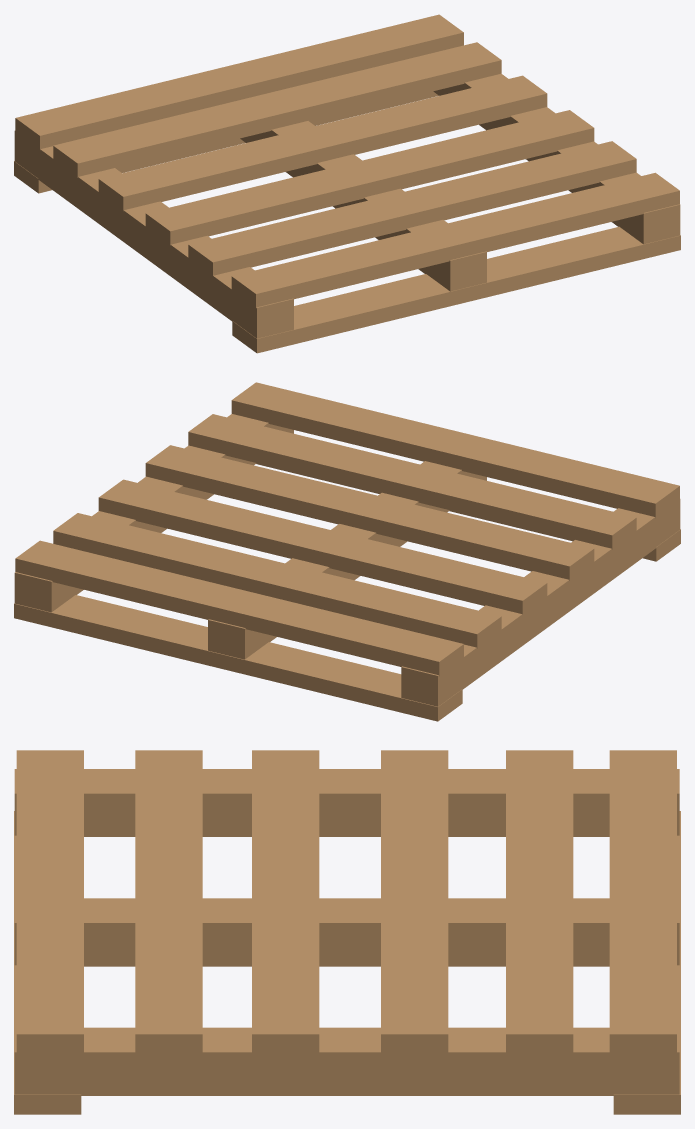
Rendered from WoodenPallet.fbx.
The picture shows the model from 3 angles, top to bottom: view 1: azimuth 30°, elevation 25°; view 2: azimuth 150°, elevation 25°; view 3: azimuth 270°, elevation 25°; orthographic projection. The views are drawn at different scales.
Parts seen in each view (by area): view 1: Wooden_Pallet; view 2: Wooden_Pallet; view 3: Wooden_Pallet.
Part boxes in pixels (x1,y1,x2,y2): Wooden_Pallet: [14, 14, 680, 353]; Wooden_Pallet: [14, 382, 680, 721]; Wooden_Pallet: [14, 750, 680, 1114].
Size of the model in its own units: 115 by 15.17 by 114.
